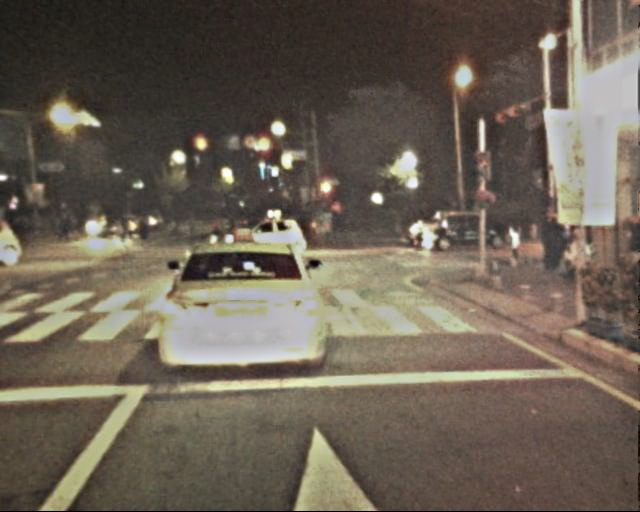person: (536, 209, 562, 272), (502, 220, 524, 274), (60, 204, 80, 240), (163, 207, 178, 243), (135, 209, 150, 245), (180, 209, 194, 243), (220, 209, 234, 243), (207, 210, 221, 243)
